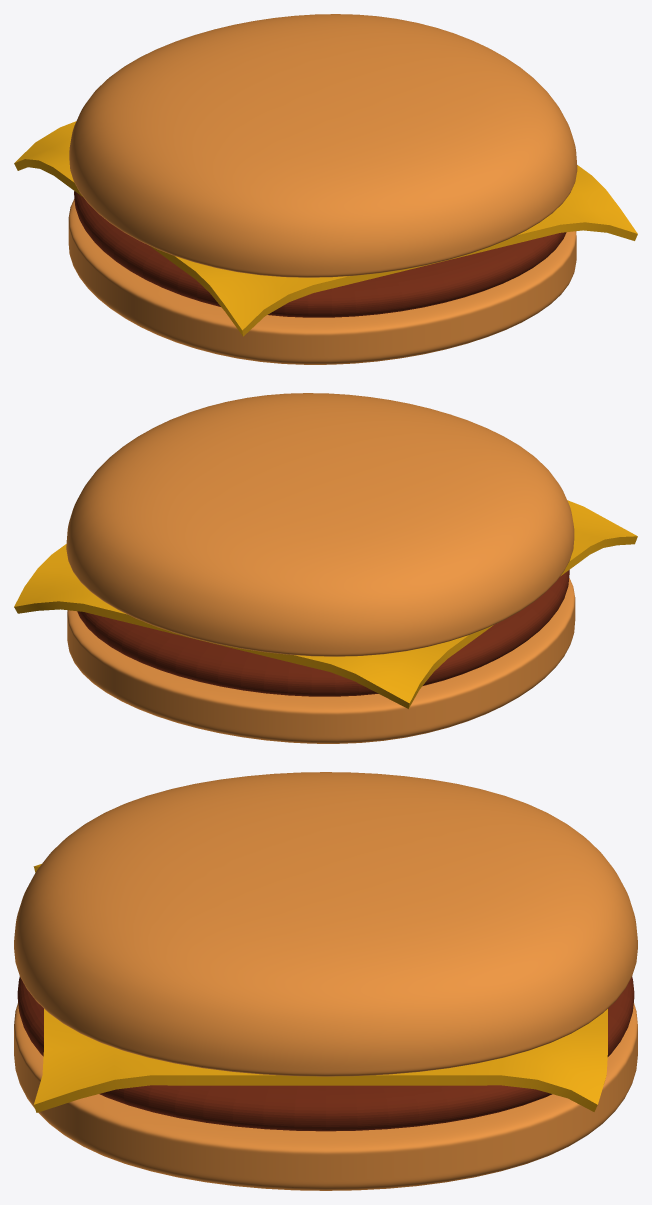
Rendered from hamburger.glb.
The picture shows the model from 3 angles, top to bottom: view 1: azimuth 30°, elevation 25°; view 2: azimuth 150°, elevation 25°; view 3: azimuth 270°, elevation 25°; orthographic projection. The views are drawn at different scales.
Visible parts, largest first — view 1: TopBunCube, ButtonBunCube, MeatCube, CheesePlane; view 2: TopBunCube, ButtonBunCube, MeatCube, CheesePlane; view 3: TopBunCube, ButtonBunCube, MeatCube, CheesePlane.
Boxes of the visible parts, x1,y1,x2,y2 form: TopBunCube: (69, 14, 577, 277); ButtonBunCube: (68, 199, 576, 364); MeatCube: (74, 191, 566, 317); CheesePlane: (14, 121, 637, 336); TopBunCube: (66, 393, 574, 656); ButtonBunCube: (67, 578, 575, 743); MeatCube: (77, 570, 569, 696); CheesePlane: (14, 500, 637, 708); TopBunCube: (14, 772, 637, 1076); ButtonBunCube: (14, 1003, 637, 1190); MeatCube: (17, 976, 634, 1131); CheesePlane: (33, 864, 607, 1112).
Size of the model in its own units: 1.93 by 0.8037 by 1.97.
